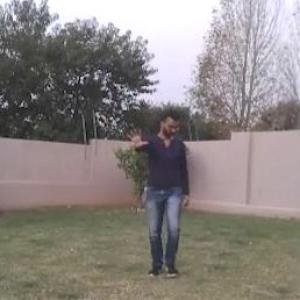follow_hand: (122, 121, 151, 150)
